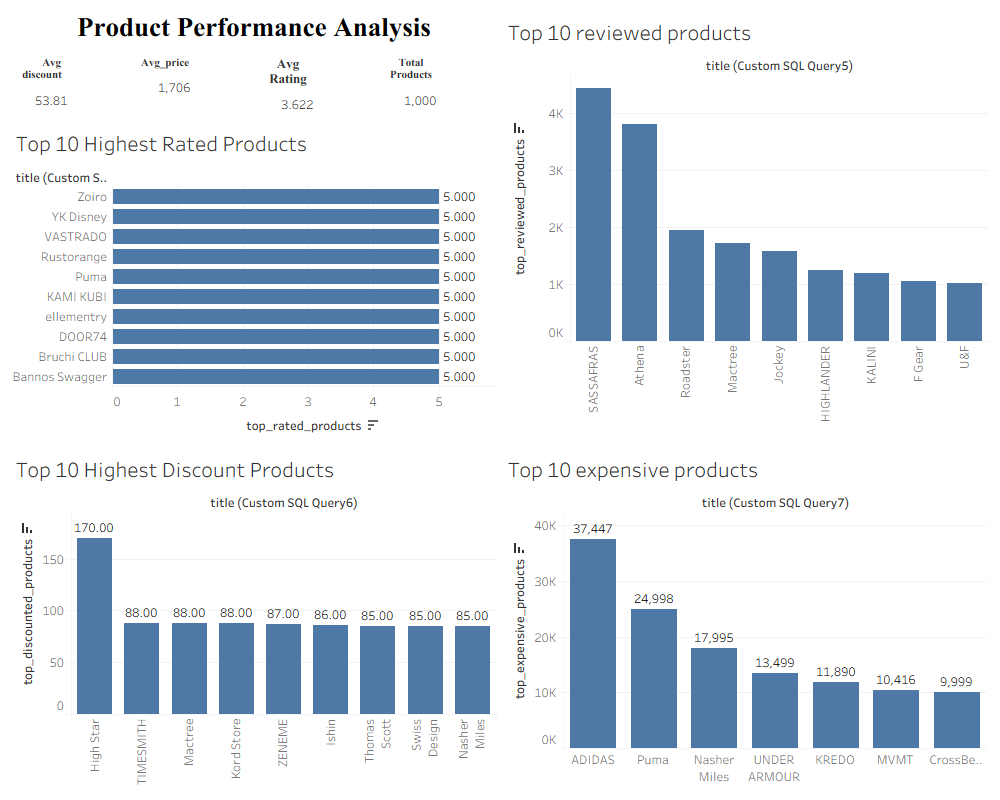

The page's visual inventory and layout, read from the dashboard file:
{"tool":"tableau","page":{"name":"Product Performance Analysis","canvas":[1000,800],"ordinal":3},"visuals":[{"type":"text","box":[8,8,492,38]},{"type":"worksheet","title":"Top 10 reviewed products","mark":"Automatic","rows":["top_reviewed_products"],"cols":["title (Custom SQL Query5)"],"box":[500,8,492,437]},{"type":"worksheet","title":"Avg_discount","mark":"Automatic","box":[8,46,123,73]},{"type":"worksheet","title":"Avg_price","mark":"Automatic","box":[131,46,123,73]},{"type":"worksheet","title":"Avg_rating","mark":"Automatic","box":[254,46,123,73]},{"type":"worksheet","title":"Total_Products","mark":"Automatic","box":[377,46,123,73]},{"type":"worksheet","title":"Top 10 Highest Rated Products","mark":"Automatic","rows":["title (Custom SQL Query4)"],"cols":["top_rated_products"],"box":[8,119,492,326]},{"type":"worksheet","title":"Top 10 Highest Discount Products","mark":"Automatic","rows":["top_discounted_products"],"cols":["title (Custom SQL Query6)"],"box":[8,445,492,347]},{"type":"worksheet","title":"Top 10 expensive products","mark":"Automatic","rows":["top_expensive_products"],"cols":["title (Custom SQL Query7)"],"box":[500,445,492,347]}]}

Visuals, with their boxes in screenshot pixels (x1, y1, x2, y2), scaled from the page's 1000x800 canvas onto the 1000x800 screenshot:
text: <region>8, 8, 500, 46</region>
"Top 10 reviewed products" worksheet: <region>500, 8, 992, 445</region>
"Avg_discount" worksheet: <region>8, 46, 131, 119</region>
"Avg_price" worksheet: <region>131, 46, 254, 119</region>
"Avg_rating" worksheet: <region>254, 46, 377, 119</region>
"Total_Products" worksheet: <region>377, 46, 500, 119</region>
"Top 10 Highest Rated Products" worksheet: <region>8, 119, 500, 445</region>
"Top 10 Highest Discount Products" worksheet: <region>8, 445, 500, 792</region>
"Top 10 expensive products" worksheet: <region>500, 445, 992, 792</region>
